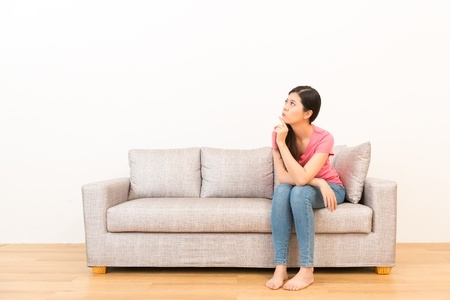not_fallen: (242, 81, 353, 292)
